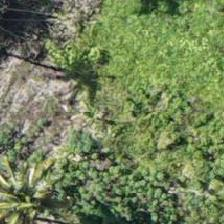coconut_tree: (0, 148, 76, 223)
